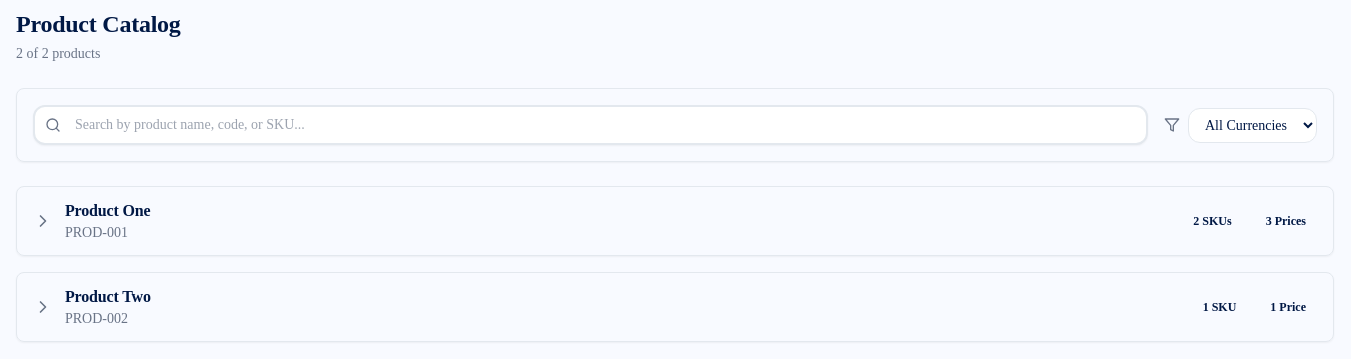
Scenario: ProjectCatalog › should clear filters
Expected: the heading "Product One" is shown, x1=65 y1=199 x2=150 y2=223
Note: Apply filters
In the field with placeholder "Search by product name, code, or SKU...": [590, 125] box x1=33 y1=105 x2=1148 y2=145, type "Product One"
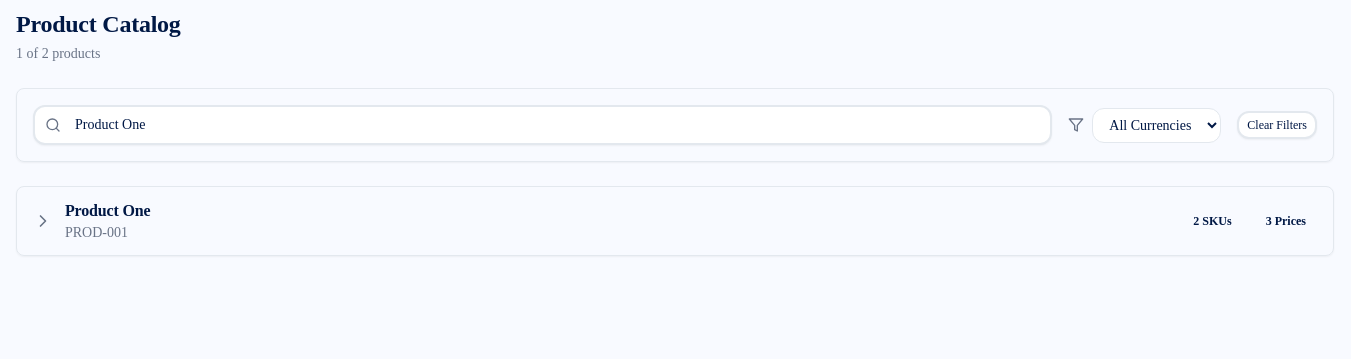
Expected: the button "Product Two" is gone
Note: Clear filters
Click the button "Clear Filters": [1277, 125] box x1=1237 y1=111 x2=1317 y2=139
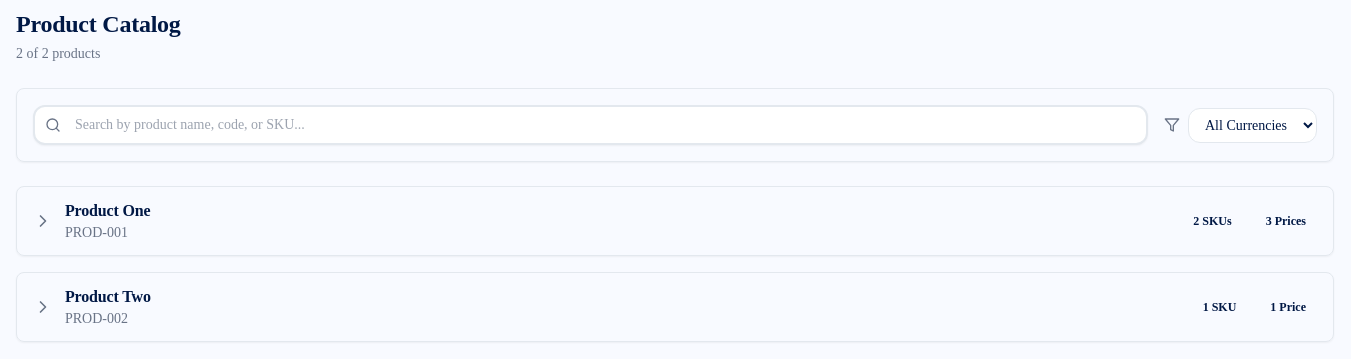
Expected: the heading "Product Two" is shown, x1=65 y1=285 x2=151 y2=309
